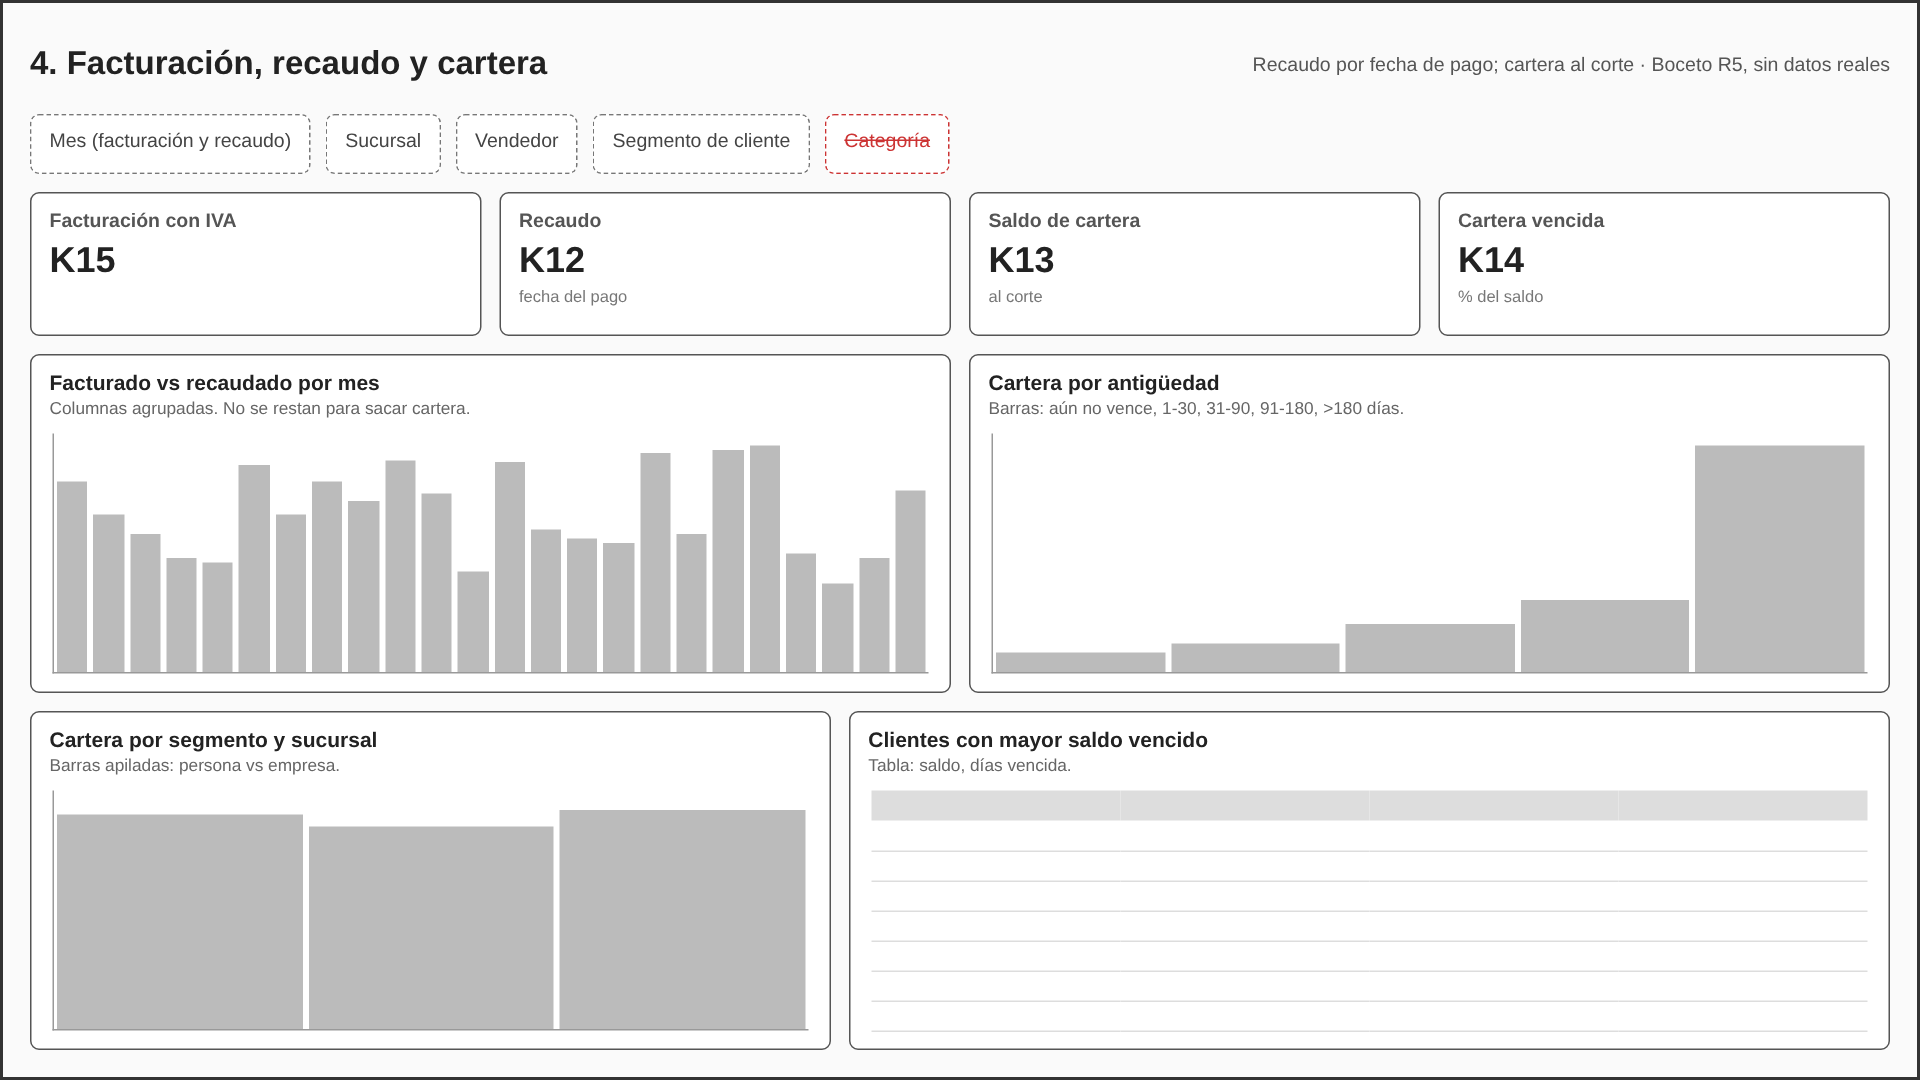

The dashboard page shown, as its layout file describes it:
{"tool":"powerbi","page":{"name":"4. Facturacion, recaudo y cartera","canvas":[1920,1080],"ordinal":3},"visuals":[{"type":"slicer","fields":{"Values":["dwh dim_fecha.anio_mes"]},"box":[9.3,0,387.4,101.9],"z":0},{"type":"slicer","fields":{"Values":["dwh dim_sucursal.nombre"]},"box":[426,0,387.4,101.9],"z":1},{"type":"slicer","fields":{"Values":["dwh dim_vendedor.nombre"]},"box":[850.4,0,387.4,92.6],"z":2},{"type":"cardVisual","fields":{"Data":["dwh fact_venta.K15 Facturacion con IVA","dwh fact_recaudo.K12 Recaudo","dwh vw_cartera_corte.K13 Saldo de cartera al corte","dwh vw_cartera_corte.K14 Cartera vencida %"]},"box":[9.3,115.8,1881.4,155.9],"z":3},{"type":"clusteredColumnChart","fields":{"Category":["dwh vw_cartera_corte.antiguedad"],"Y":["dwh vw_cartera_corte.K13 Saldo de cartera al corte"]},"box":[980.1,293.2,910.6,384.3],"z":4},{"type":"clusteredColumnChart","fields":{"Category":["dwh dim_fecha.anio_mes"],"Y":["dwh fact_venta.K15 Facturacion con IVA","dwh fact_recaudo.K12 Recaudo"]},"box":[9.3,293.2,941.5,384.3],"z":5},{"type":"clusteredBarChart","fields":{"Category":["dwh dim_cliente.segmento"],"Y":["dwh vw_cartera_corte.K13 Saldo de cartera al corte","Sum(dwh vw_cartera_corte.cartera_vencida)"]},"box":[9,687,941,384],"z":6},{"type":"tableEx","fields":{"Values":["dwh dim_cliente.cliente","dwh dim_cliente.segmento","dwh vw_cartera_corte.K13 Saldo de cartera al corte","Sum(dwh vw_cartera_corte.cartera_vencida)","dwh vw_cartera_corte.K14 Cartera vencida %"]},"box":[980,687,911,384],"z":7}]}

Visuals, with their boxes in screenshot pixels (x1, y1, x2, y2), scaled from the page's 1920x1080 canvas onto the 1926x1086 screenshot:
slicer - dwh dim_fecha.anio_mes: (9, 0, 398, 102)
slicer - dwh dim_sucursal.nombre: (427, 0, 816, 102)
slicer - dwh dim_vendedor.nombre: (853, 0, 1242, 93)
cardVisual - dwh fact_venta.K15 Facturacion con IVA x dwh fact_recaudo.K12 Recaudo: (9, 116, 1897, 273)
clusteredColumnChart - dwh vw_cartera_corte.antiguedad x dwh vw_cartera_corte.K13 Saldo de cartera al corte: (983, 295, 1897, 681)
clusteredColumnChart - dwh dim_fecha.anio_mes x dwh fact_venta.K15 Facturacion con IVA: (9, 295, 954, 681)
clusteredBarChart - dwh dim_cliente.segmento x dwh vw_cartera_corte.K13 Saldo de cartera al corte: (9, 691, 953, 1077)
tableEx - dwh dim_cliente.cliente x dwh dim_cliente.segmento: (983, 691, 1897, 1077)
